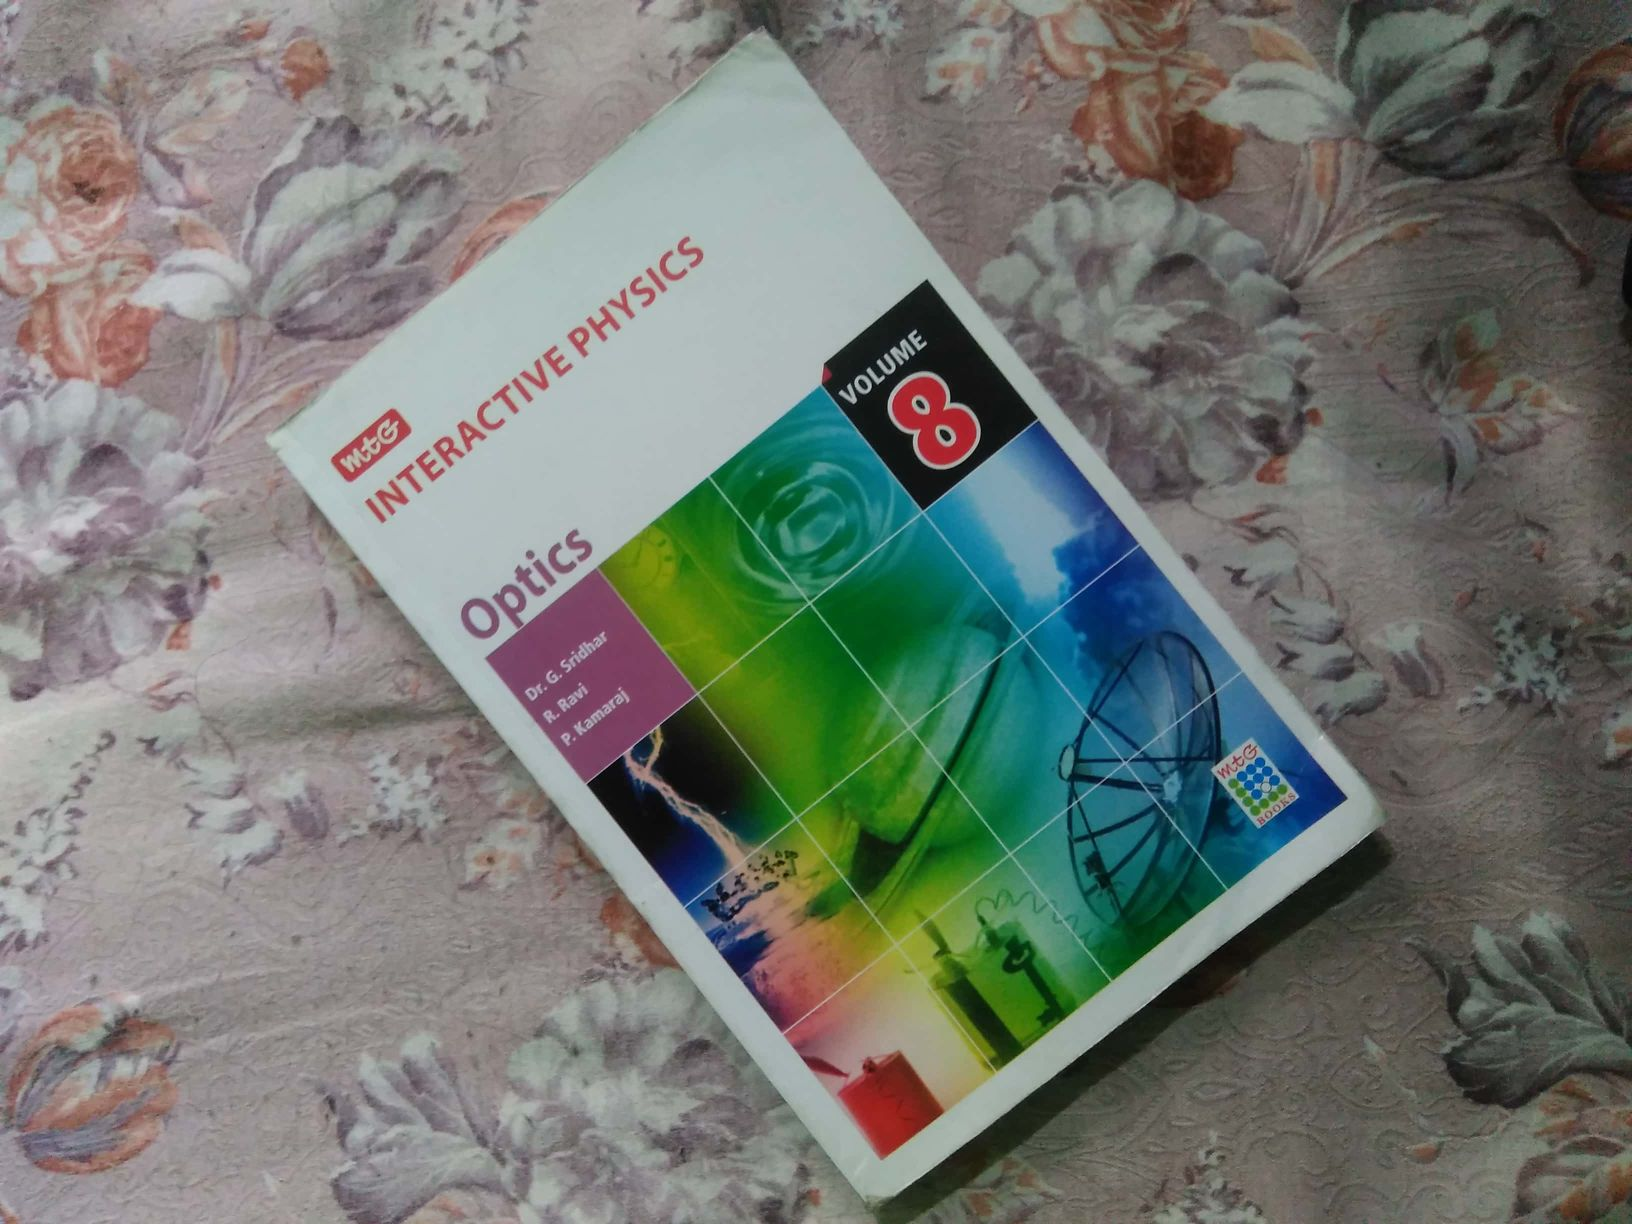optics: (290, 84, 1410, 1166)
